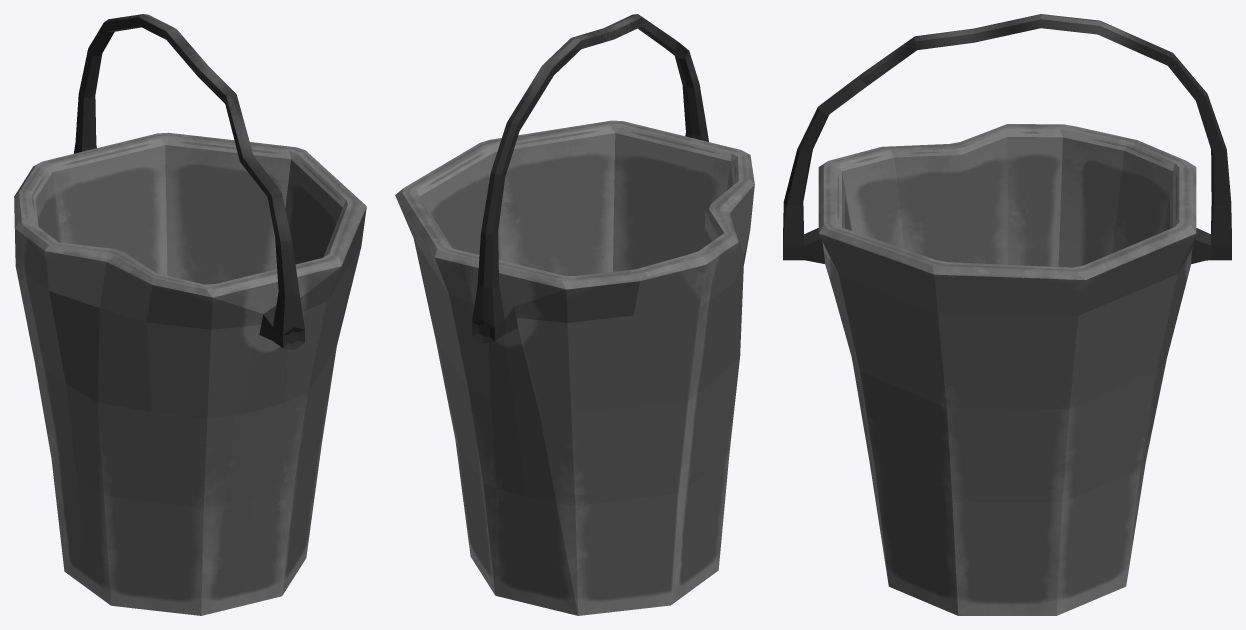
File: Bucket3.fbx
3 renders of one model, left to right at view 1: azimuth 30°, elevation 25°; view 2: azimuth 150°, elevation 25°; view 3: azimuth 270°, elevation 25°, orthographic. The views are drawn at different scales.
Parts seen in each view (by area): view 1: Cylinder; view 2: Cylinder; view 3: Cylinder.
Boxes of the visible parts, x1,y1,x2,y2 form: Cylinder: (14, 14, 366, 615); Cylinder: (395, 14, 754, 615); Cylinder: (783, 14, 1231, 615).
Bounding box in the file's own units: 11.2 × 13.88 × 18.83.
